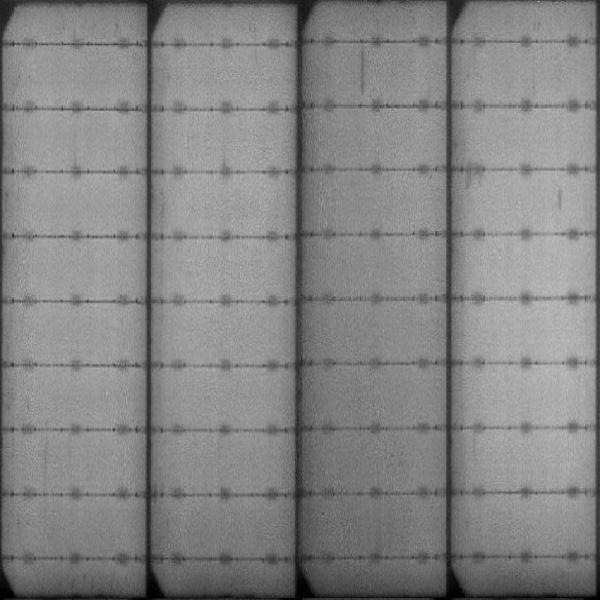scratch: (358, 49, 369, 98)
